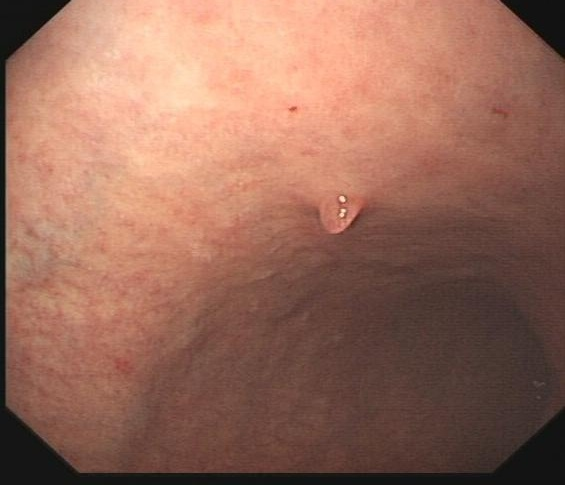Polyp: (300, 173, 380, 251)
